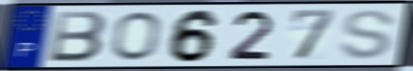2: (228, 9, 274, 62)
6: (165, 7, 223, 64)
7: (289, 8, 338, 62)
B: (46, 10, 108, 64)
O: (110, 10, 162, 62)
S: (338, 8, 398, 61)
